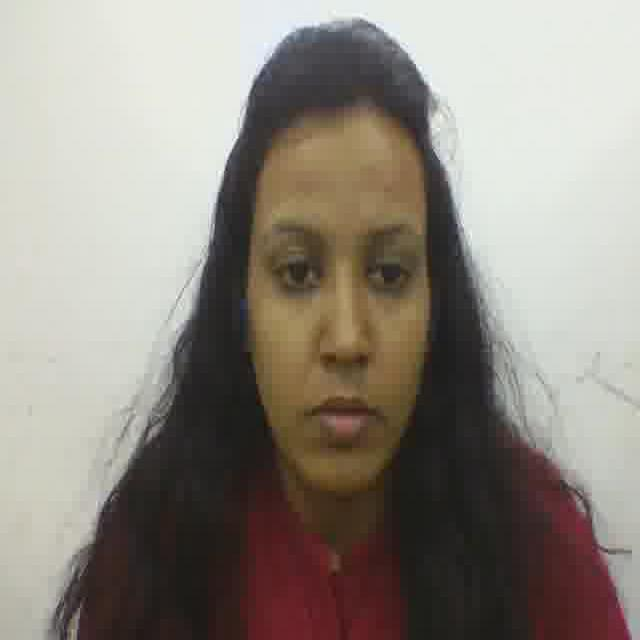Frustration: (243, 120, 430, 481)
